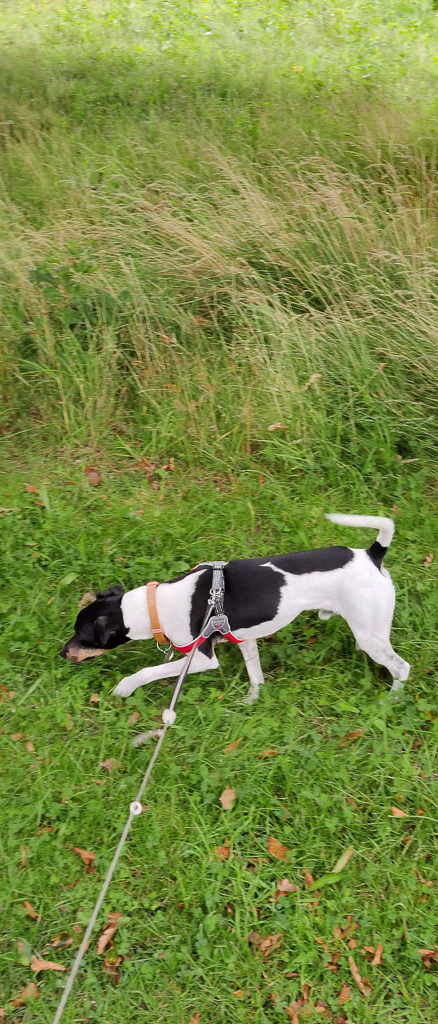Dog: (46, 493, 422, 721)
